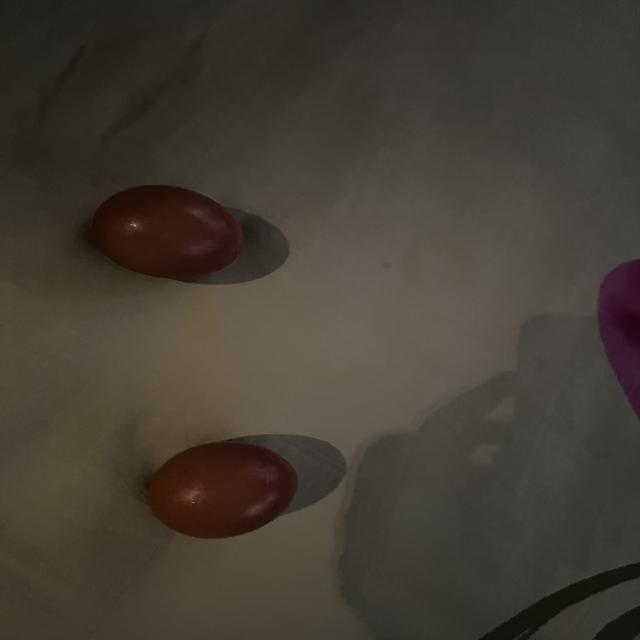egg: (131, 429, 310, 542), (76, 180, 253, 285)
